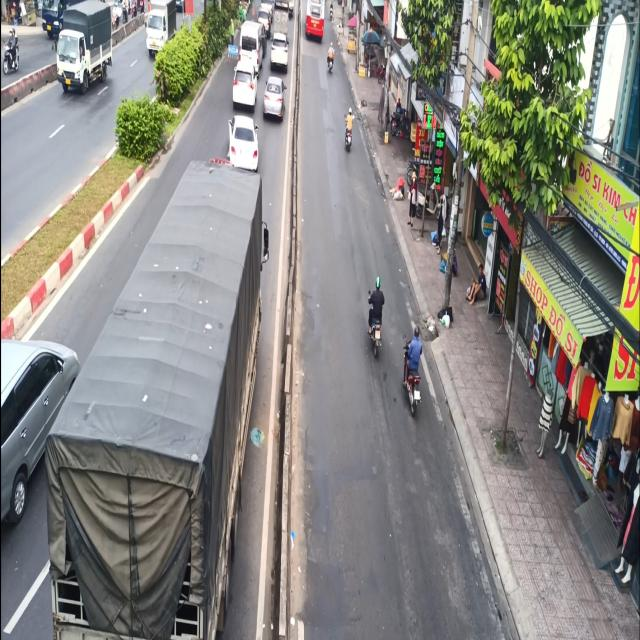car: (227, 111, 263, 174), (231, 55, 260, 109), (262, 71, 287, 129)
motor: (400, 321, 428, 422), (364, 271, 386, 359), (344, 103, 358, 155)
truck: (52, 155, 276, 640)
